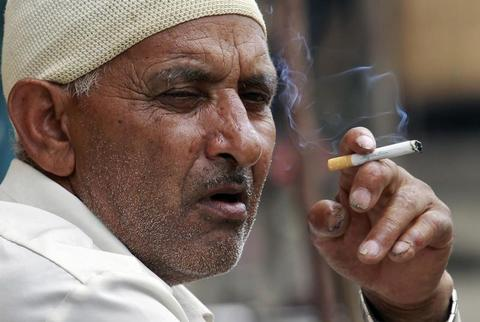cigarette: (325, 138, 427, 171)
